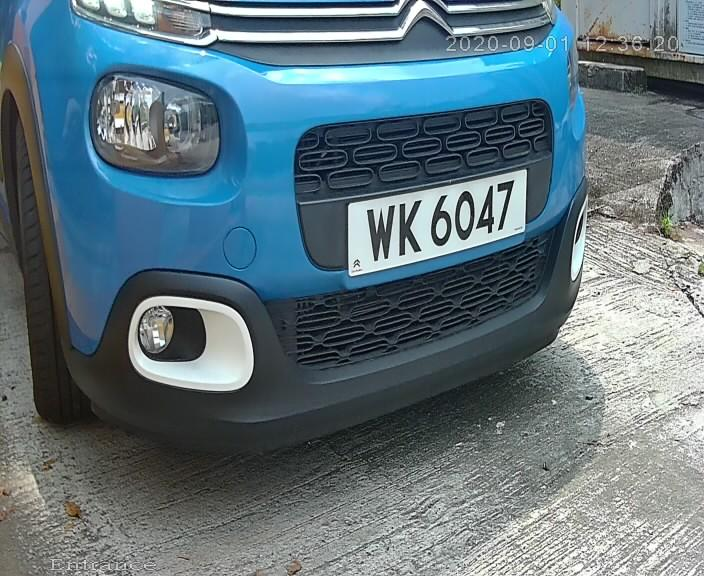License Plate: (340, 160, 525, 286)
